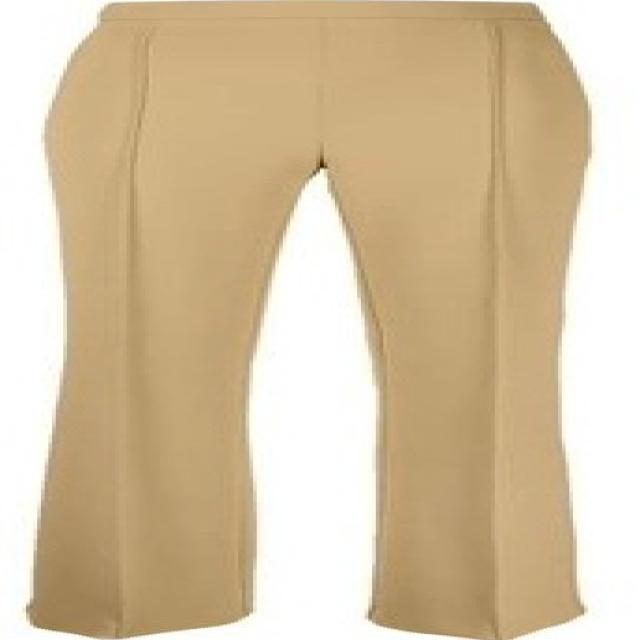pants: (21, 0, 592, 638)
